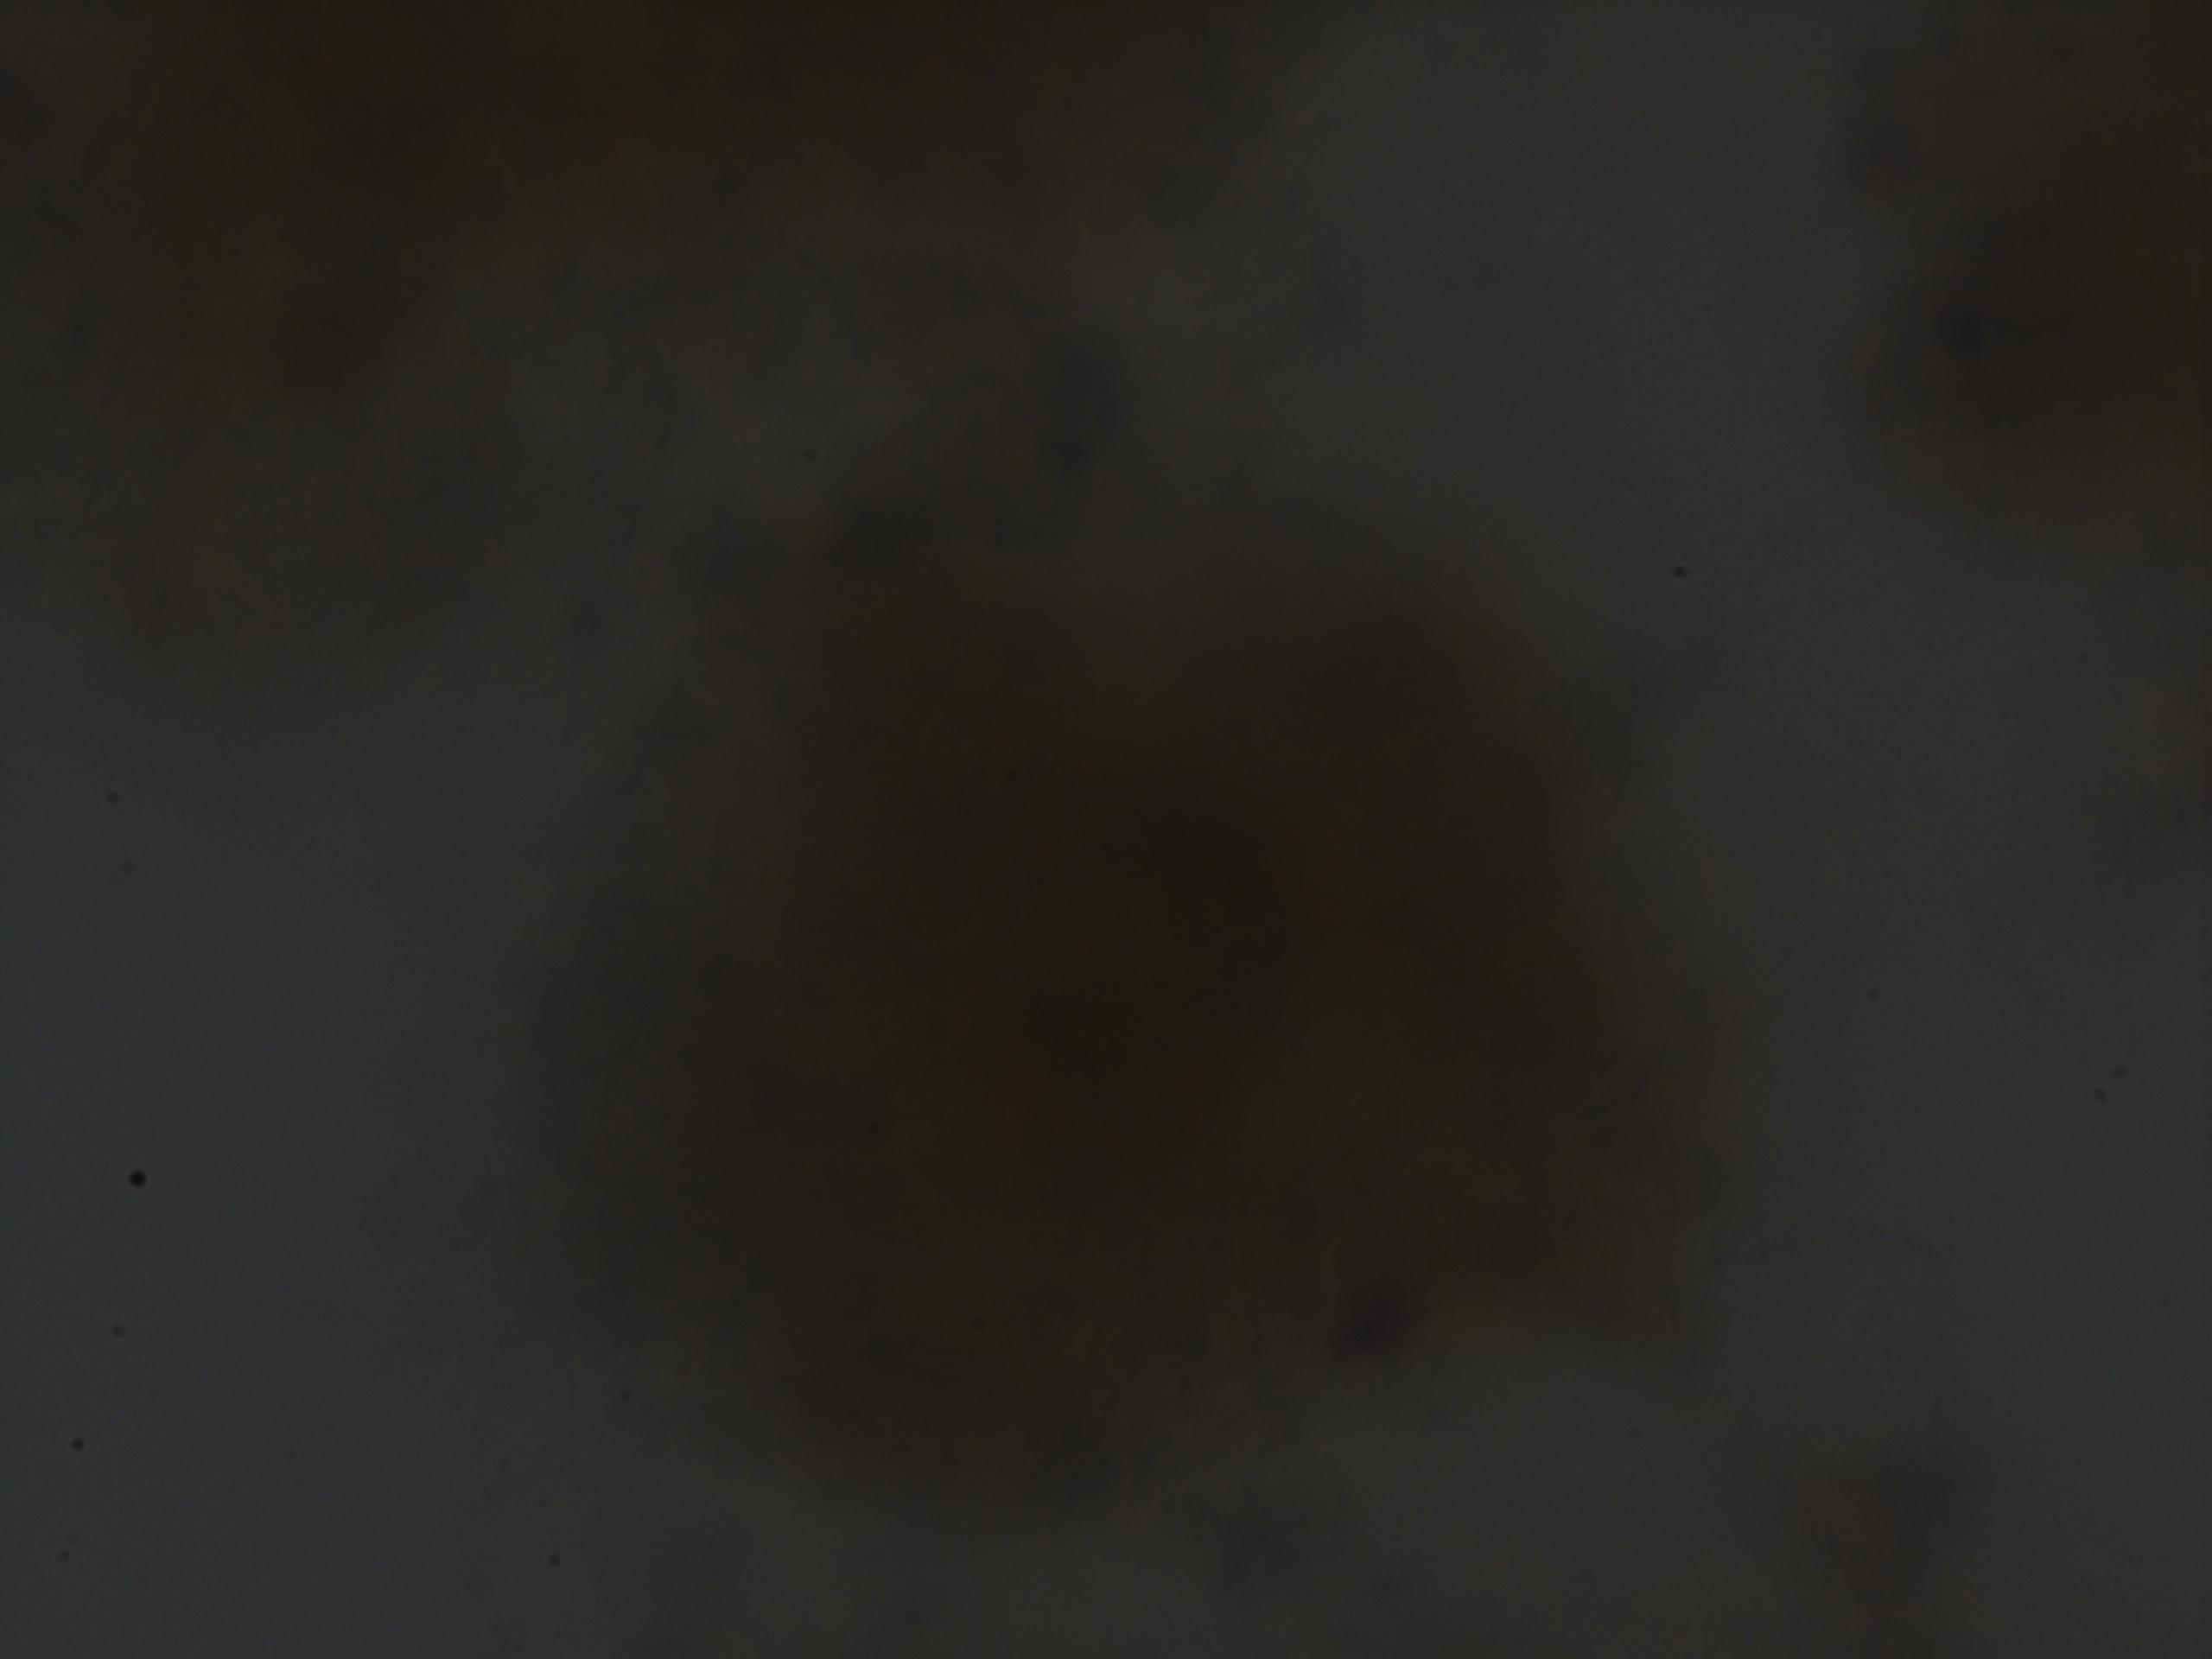spherical_floc: (521, 399, 1757, 1549)
